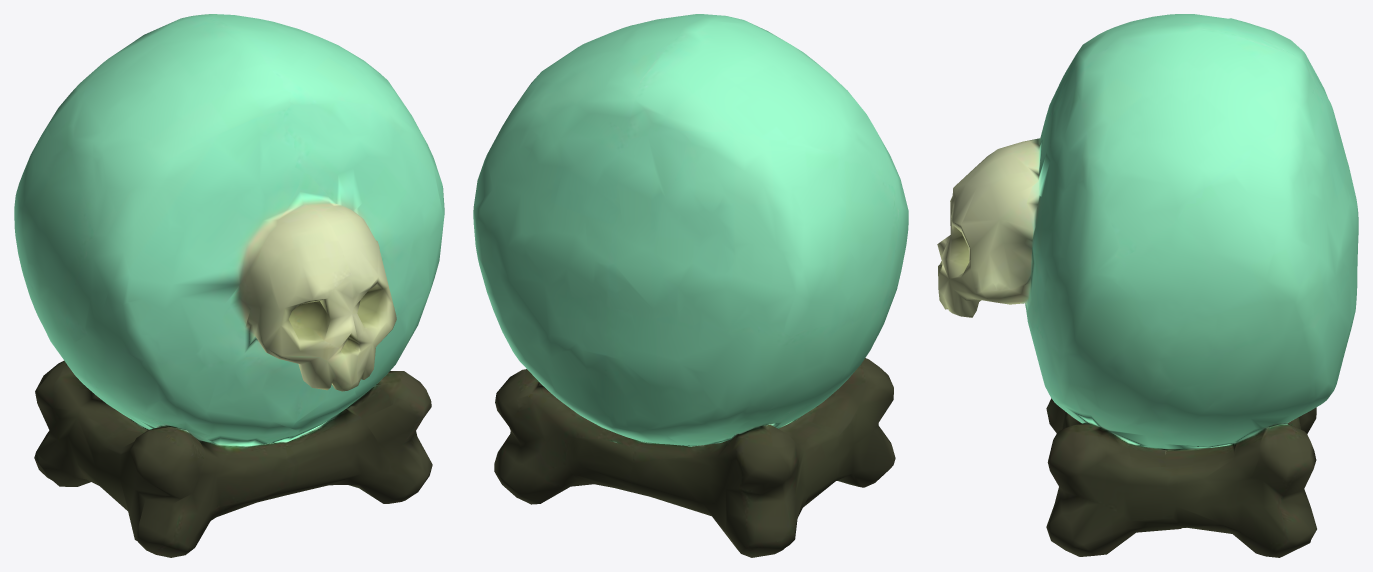
The model's file is gem_summon-B9GyzwEA.glb.
3 views of the same model, side by side, from view 1: azimuth 30°, elevation 25°; view 2: azimuth 150°, elevation 25°; view 3: azimuth 270°, elevation 25° (orthographic). The views are drawn at different scales.
Parts seen in each view (by area): view 1: tripo_node_eb7080c1-d47e-40e0-9d71-41109cd6cc1c; view 2: tripo_node_eb7080c1-d47e-40e0-9d71-41109cd6cc1c; view 3: tripo_node_eb7080c1-d47e-40e0-9d71-41109cd6cc1c.
Part boxes in pixels (box(x1,y1,x2,y2)): tripo_node_eb7080c1-d47e-40e0-9d71-41109cd6cc1c: box(14, 14, 444, 557); tripo_node_eb7080c1-d47e-40e0-9d71-41109cd6cc1c: box(473, 14, 908, 557); tripo_node_eb7080c1-d47e-40e0-9d71-41109cd6cc1c: box(937, 14, 1358, 557).
Size of the model in its own units: 0.8234 by 1 by 0.8134.
Materials: 1 (1 with a texture image).
